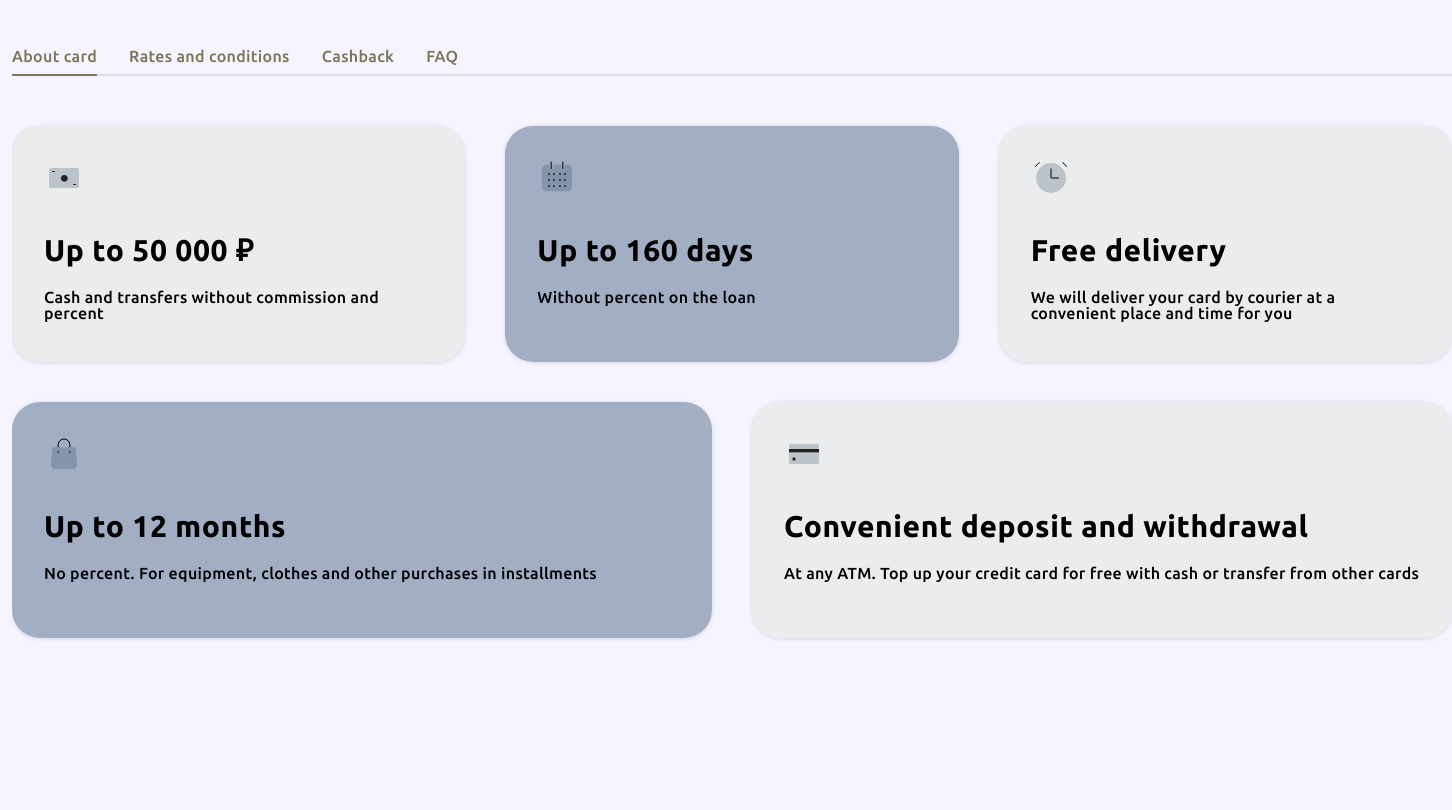
CreditCardTabs › Click tab
Click the button "Rates and conditions" at (209, 62), box 129,48 -> 290,76
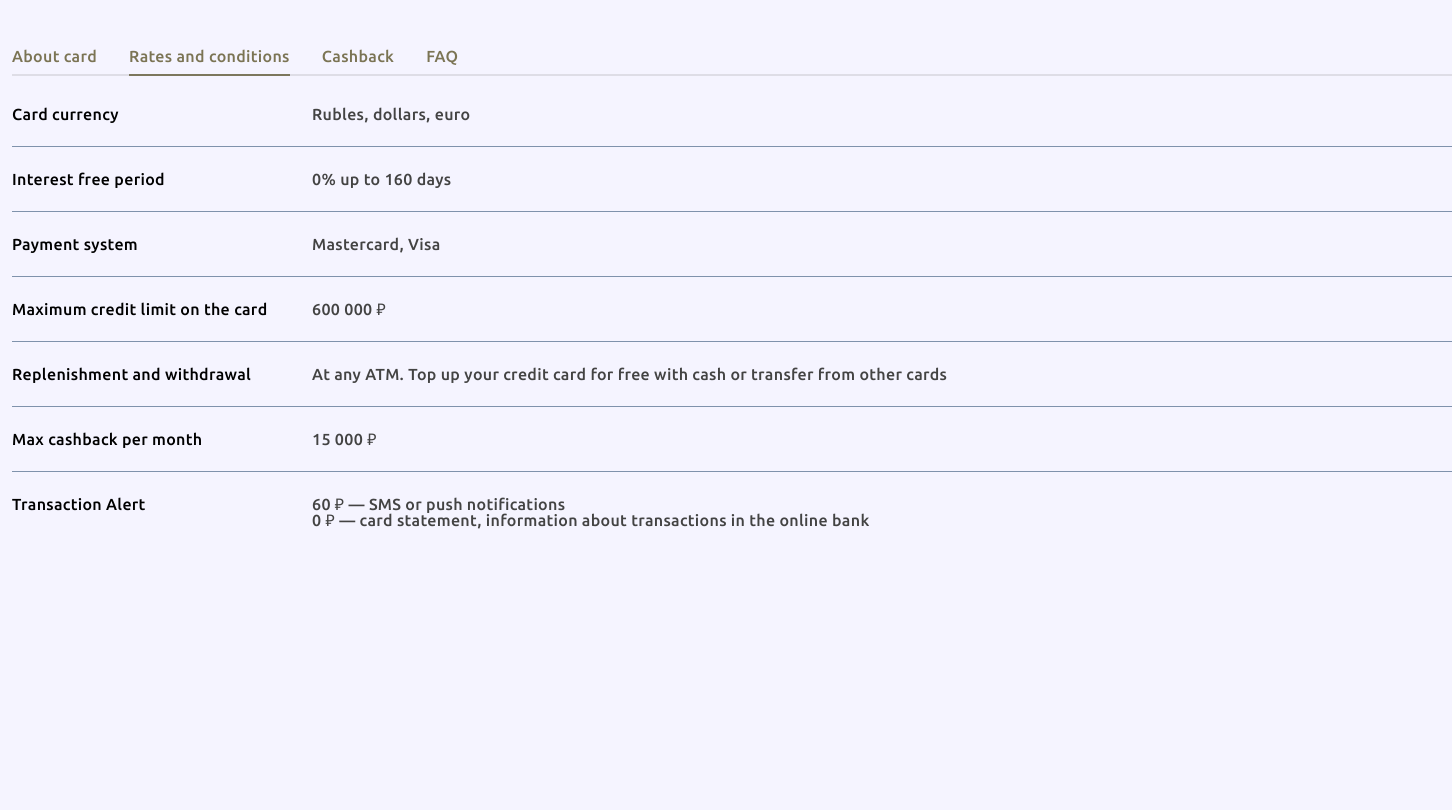
Now the text "Mastercard, Visa" is shown, box 312,236 -> 440,252
